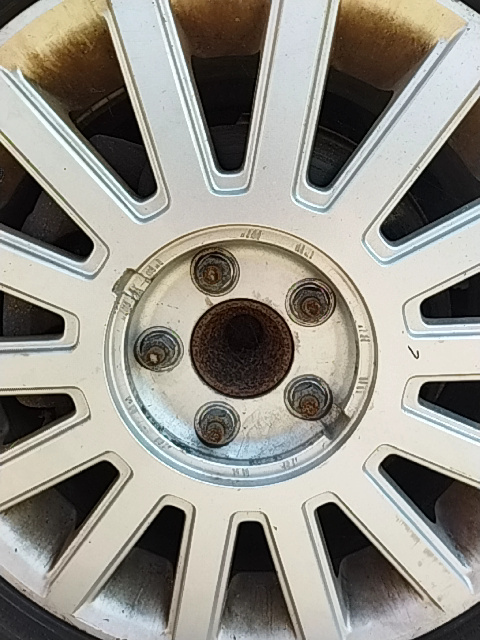l: (271, 369, 334, 434), (281, 267, 343, 333), (126, 327, 187, 382), (188, 397, 247, 451), (190, 244, 239, 298)
